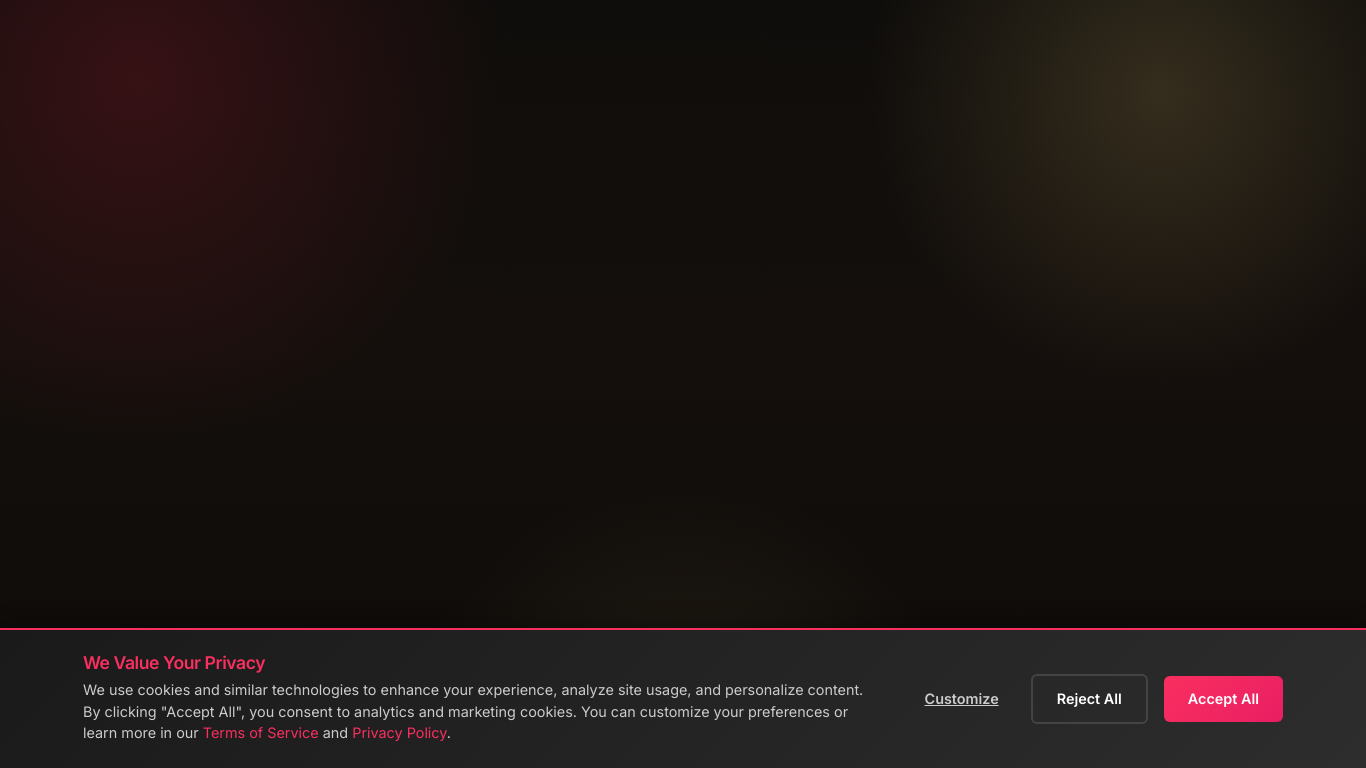
Test: ConsentFlow Integration Tests › Consent Actions › opens customization modal
Click the button "Customize": (962, 699) [908,677,1015,721]
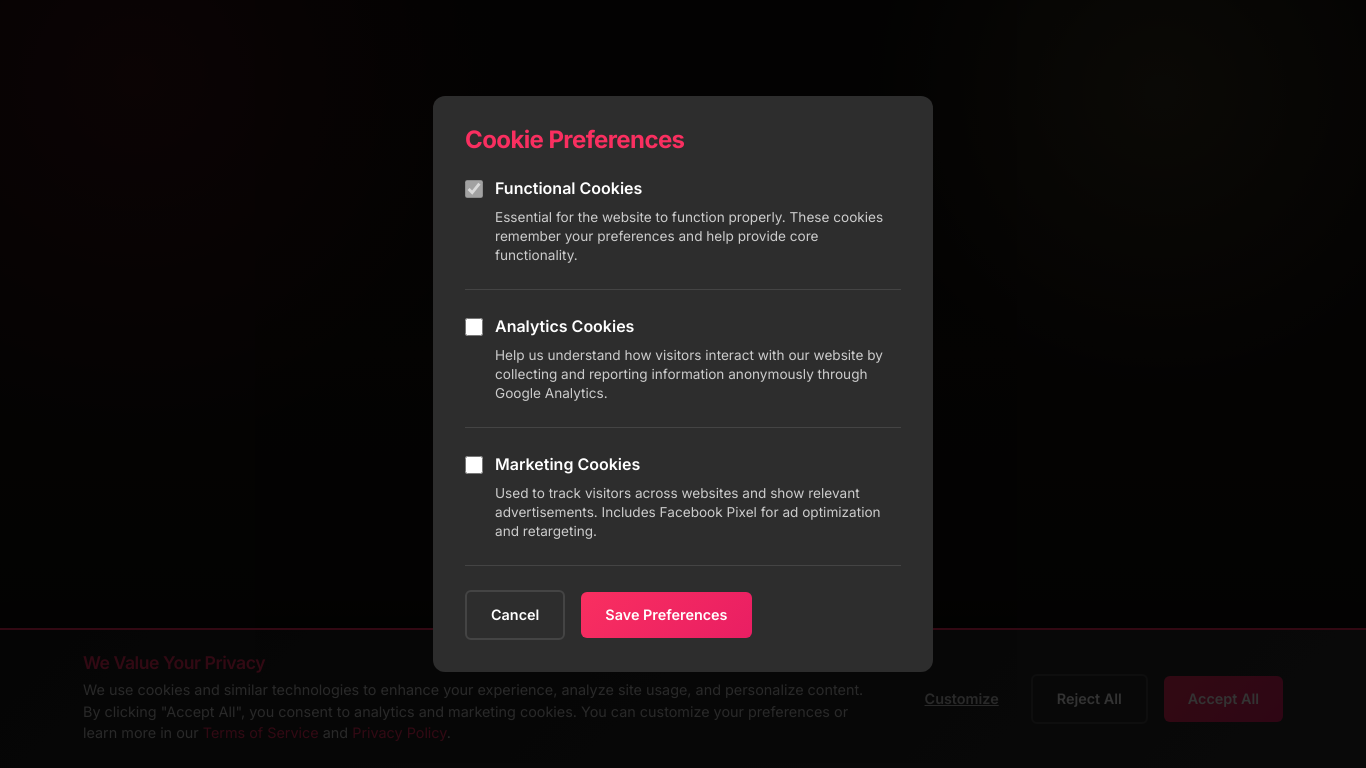
Result: the heading "Cookie Preferences" is shown at [465,125,684,154]
Result: the text "Functional Cookies" is shown at [495,178,642,198]
Result: the text "Analytics Cookies" is shown at [495,316,634,336]
